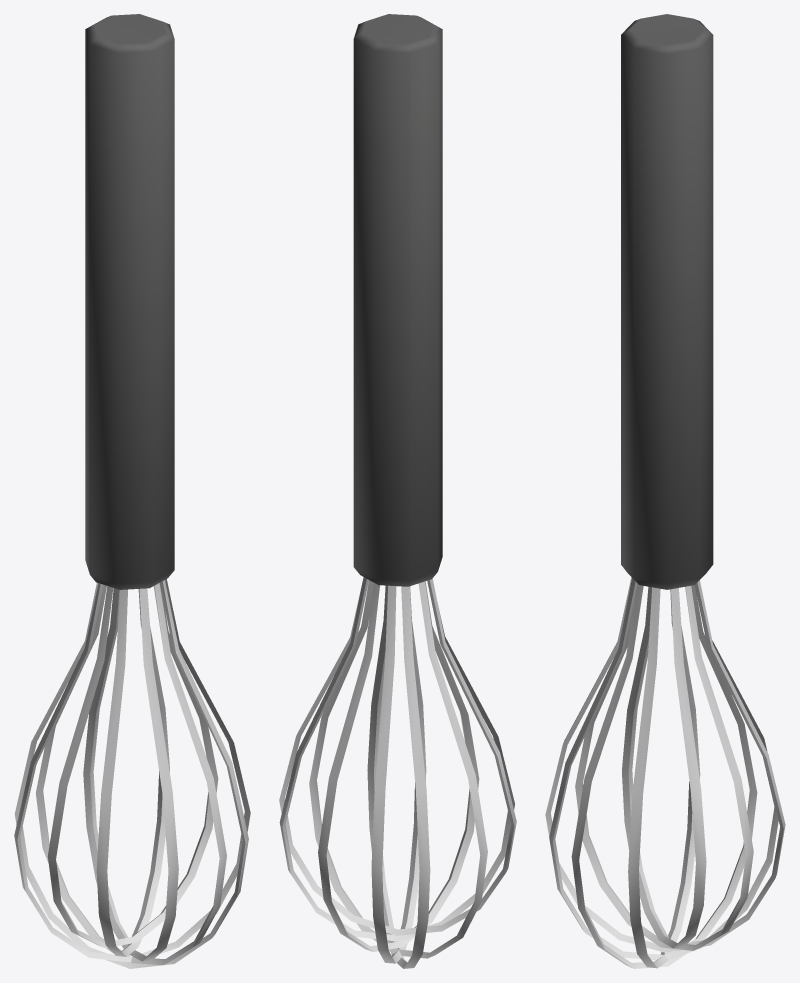
Rendered from SM_Kitchen_EggBreaker.fbx.
The picture shows the model from 3 angles, left to right: view 1: azimuth 30°, elevation 25°; view 2: azimuth 150°, elevation 25°; view 3: azimuth 270°, elevation 25°; orthographic projection.
Parts seen in each view (by area): view 1: SM_Kitchen_EggBreaker; view 2: SM_Kitchen_EggBreaker; view 3: SM_Kitchen_EggBreaker.
Boxes of the visible parts, <box> form: SM_Kitchen_EggBreaker: <box>14,14,250,968</box>; SM_Kitchen_EggBreaker: <box>279,14,516,968</box>; SM_Kitchen_EggBreaker: <box>545,14,785,968</box>.
Bounding box in the file's own units: 0.0425 × 0.1853 × 0.0432.
